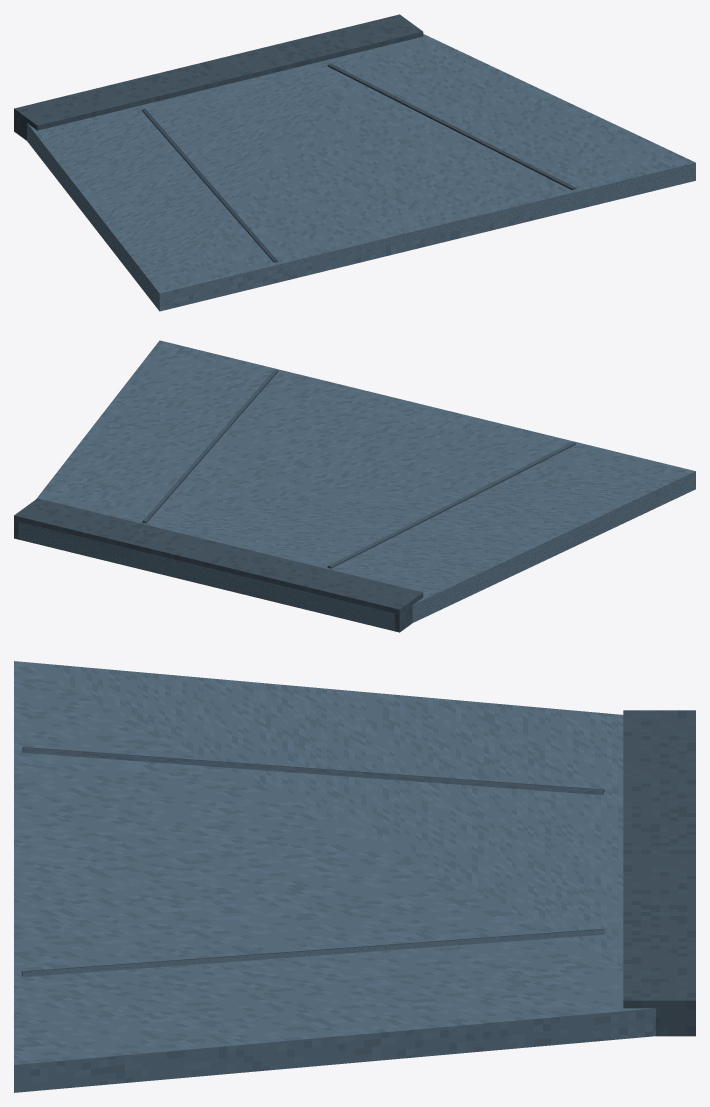
The model's file is skirt_denim.glb.
3 renders of one model, top to bottom at view 1: azimuth 30°, elevation 25°; view 2: azimuth 150°, elevation 25°; view 3: azimuth 270°, elevation 25°, orthographic. The views are drawn at different scales.
Visible parts, largest first — view 1: block_pleated panel, block_waistband, block_pleat 1 0, block_pleat -1 0; view 2: block_pleated panel, block_waistband, block_pleat -1 0, block_pleat 1 0; view 3: block_pleated panel, block_waistband, block_pleat 1 0, block_pleat -1 0.
Part boxes in pixels (bbox=[...]): block_pleated panel: bbox=[27, 34, 695, 311]; block_waistband: bbox=[14, 14, 423, 140]; block_pleat 1 0: bbox=[327, 63, 575, 190]; block_pleat -1 0: bbox=[142, 108, 278, 262]; block_pleated panel: bbox=[18, 340, 695, 631]; block_waistband: bbox=[14, 498, 423, 632]; block_pleat -1 0: bbox=[327, 441, 575, 568]; block_pleat 1 0: bbox=[142, 369, 278, 523]; block_pleated panel: bbox=[14, 661, 655, 1092]; block_waistband: bbox=[623, 710, 695, 1036]; block_pleat 1 0: bbox=[21, 929, 604, 976]; block_pleat -1 0: bbox=[21, 747, 604, 795].
Bounding box in the file's own units: 0.342 × 0.014 × 0.244.
Materials: 1 (1 with a texture image).
